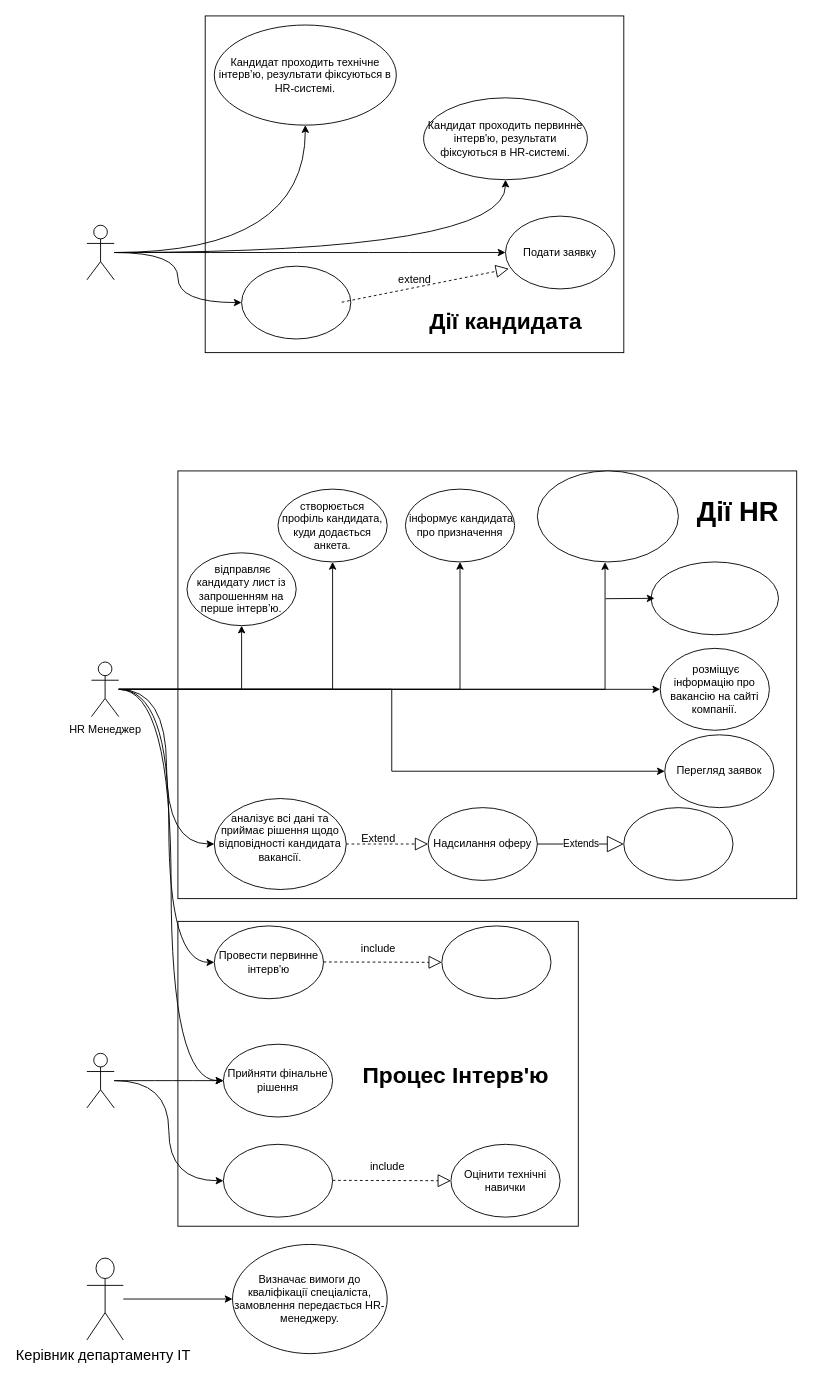
Image size: 813x1380. Some labels were removed from this diagram. Each missing label, with the box of its shape:
Визначають вимоги до кваліфікації спеціаліста: (650, 561, 779, 635)
Закрити вакансію: (623, 807, 733, 880)
Кандидат на роботу: (86, 224, 114, 280)
направляє запит технічному спеціалісту для призначення часу інтерв’ю: (536, 470, 678, 562)
Оцінити soft skiils: (441, 925, 551, 999)
Переглянути заявку: (241, 265, 351, 339)
Провести технічне інтерв'ю: (222, 1143, 333, 1217)
Технійчний лід: (86, 1052, 114, 1108)
